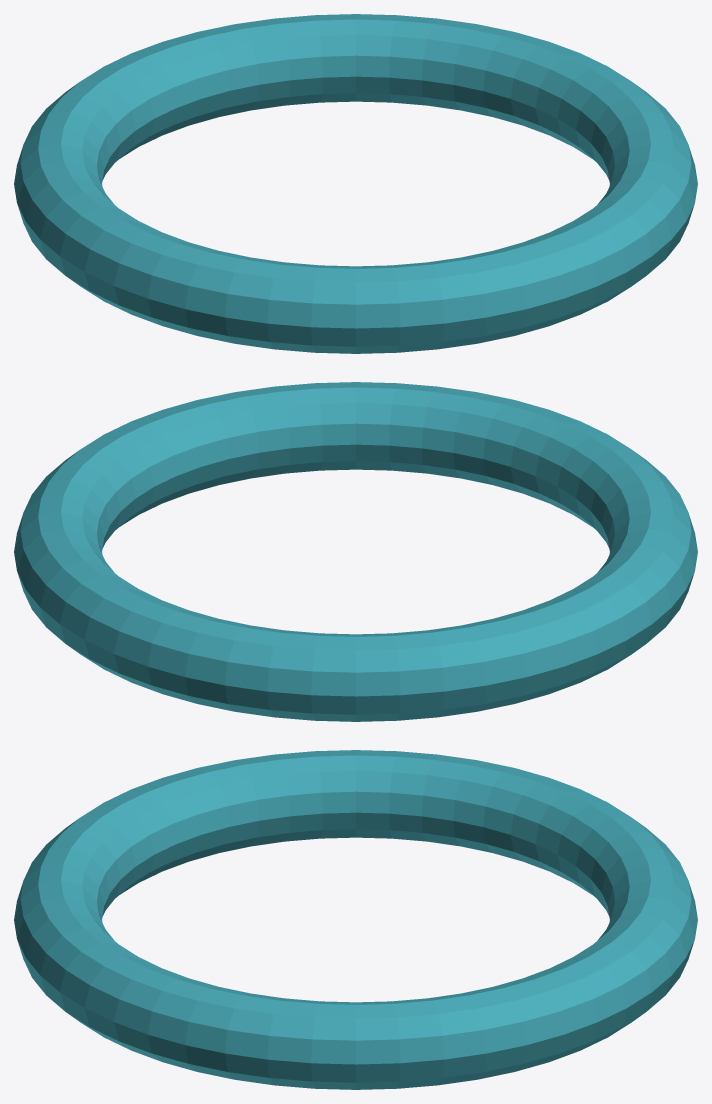
File: ring.dae
3 views of the same model, one above another, from view 1: azimuth 30°, elevation 25°; view 2: azimuth 150°, elevation 25°; view 3: azimuth 270°, elevation 25° (orthographic).
Visible parts, largest first — view 1: Torus; view 2: Torus; view 3: Torus.
Part boxes in pixels (x1=…): Torus: x1=14, y1=14, x2=697, y2=353; Torus: x1=14, y1=382, x2=697, y2=721; Torus: x1=14, y1=750, x2=697, y2=1089.
Size of the model in its own units: 0.8348 by 0.8348 by 0.1073.
